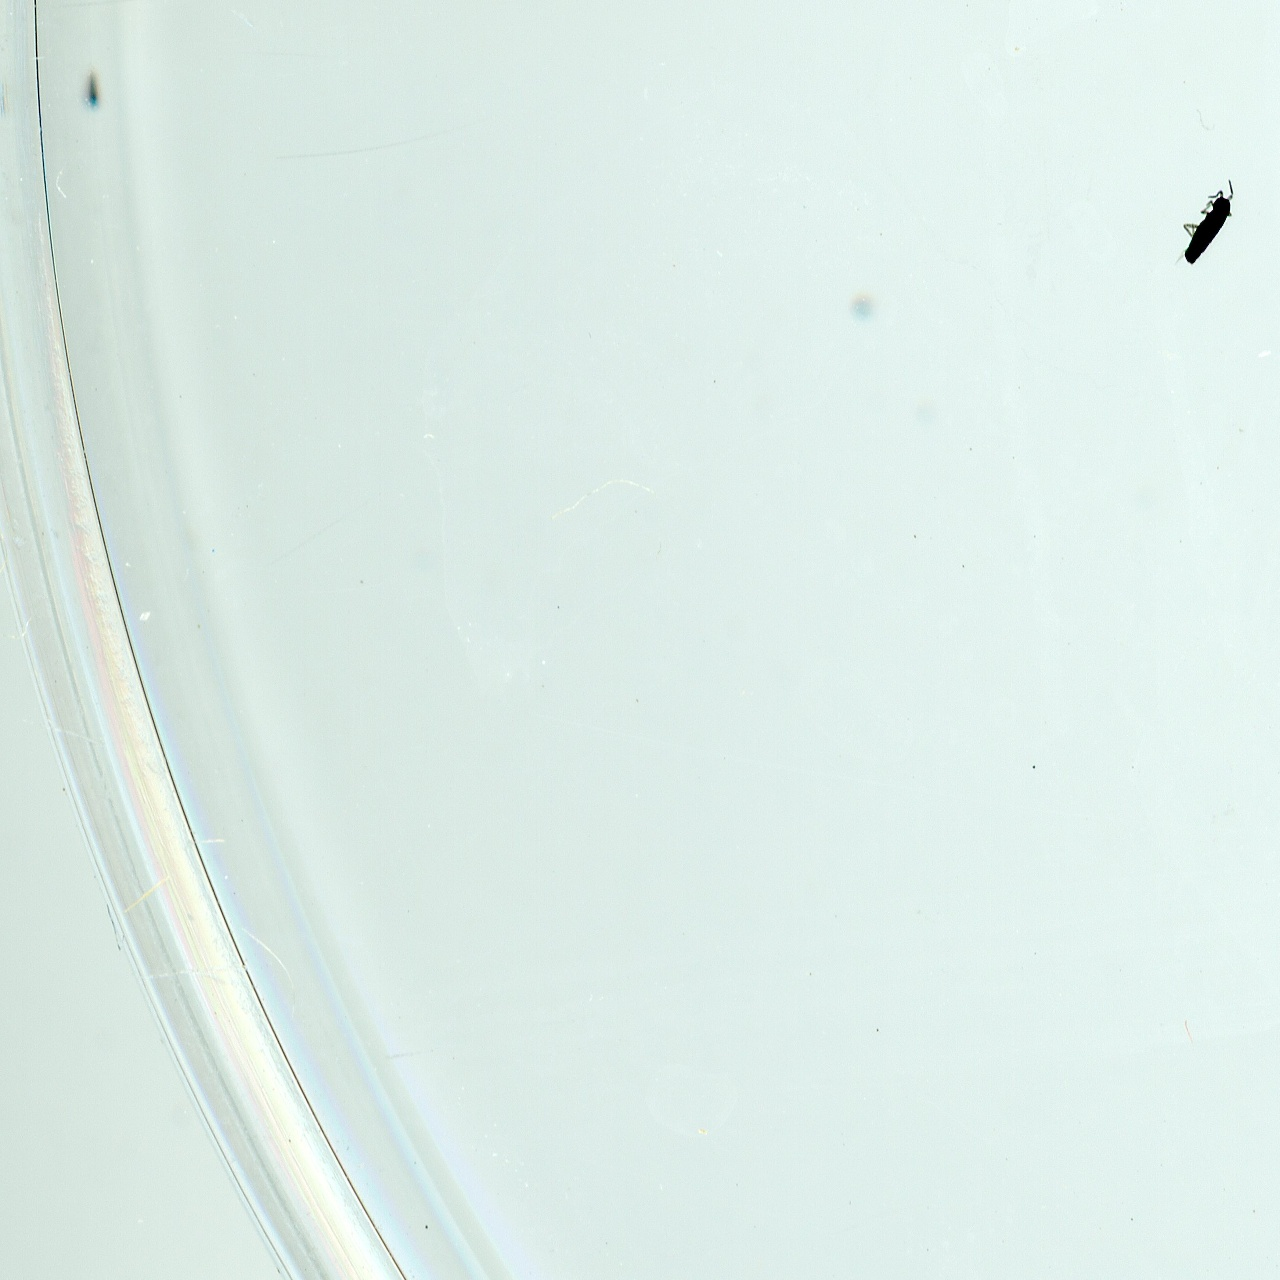arthropod: (1156, 156, 1258, 295)
